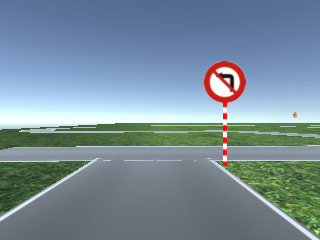-5: (1, 191, 320, 239)
NoLeft: (204, 61, 246, 103)
